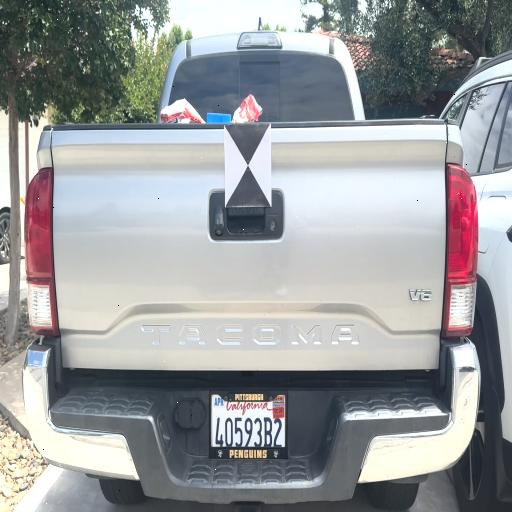target: (225, 124, 271, 206)
